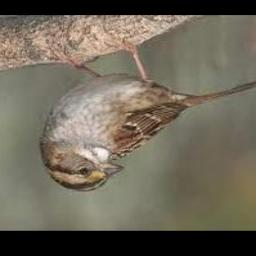Sparrow: (40, 38, 256, 191)
